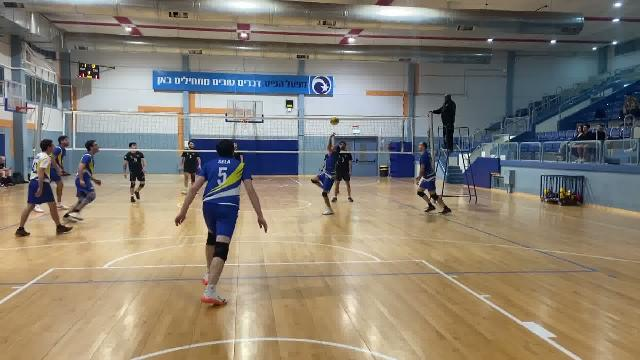ball: (328, 115, 340, 125)
